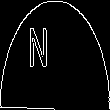N_S: (44, 28, 66, 82)
